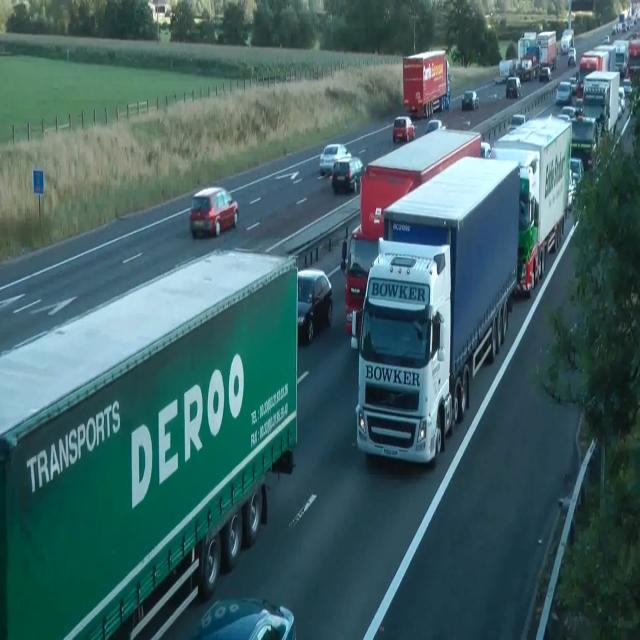bus: (193, 597, 296, 639), (297, 268, 333, 344), (189, 186, 239, 237), (331, 156, 363, 193), (319, 143, 351, 175), (567, 157, 583, 210), (392, 116, 414, 143), (570, 157, 584, 187), (556, 80, 572, 104), (461, 90, 479, 110), (558, 106, 582, 121), (506, 76, 522, 98), (567, 168, 575, 211), (424, 119, 446, 134), (510, 113, 526, 129), (618, 86, 626, 118), (569, 71, 579, 94), (538, 66, 552, 81), (622, 77, 632, 96), (567, 46, 576, 66), (480, 140, 490, 158), (602, 34, 610, 44), (612, 23, 618, 35)
minibus: (0, 245, 298, 639), (355, 154, 521, 466), (340, 126, 482, 346), (488, 113, 572, 298), (402, 49, 450, 118), (582, 69, 620, 137), (517, 29, 557, 81), (536, 29, 556, 71), (560, 29, 574, 54)
